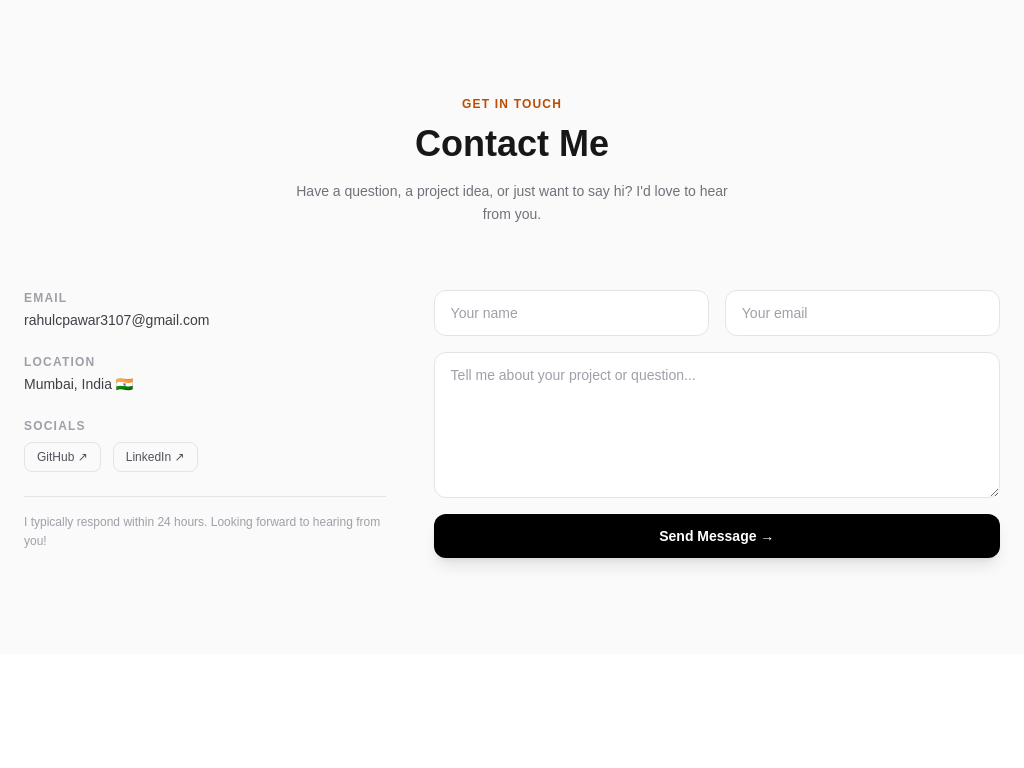
Contact › shows an error when the request throws
Type "Ada" into the field with placeholder "Your name" at [571, 312], box [434, 290, 709, 336]
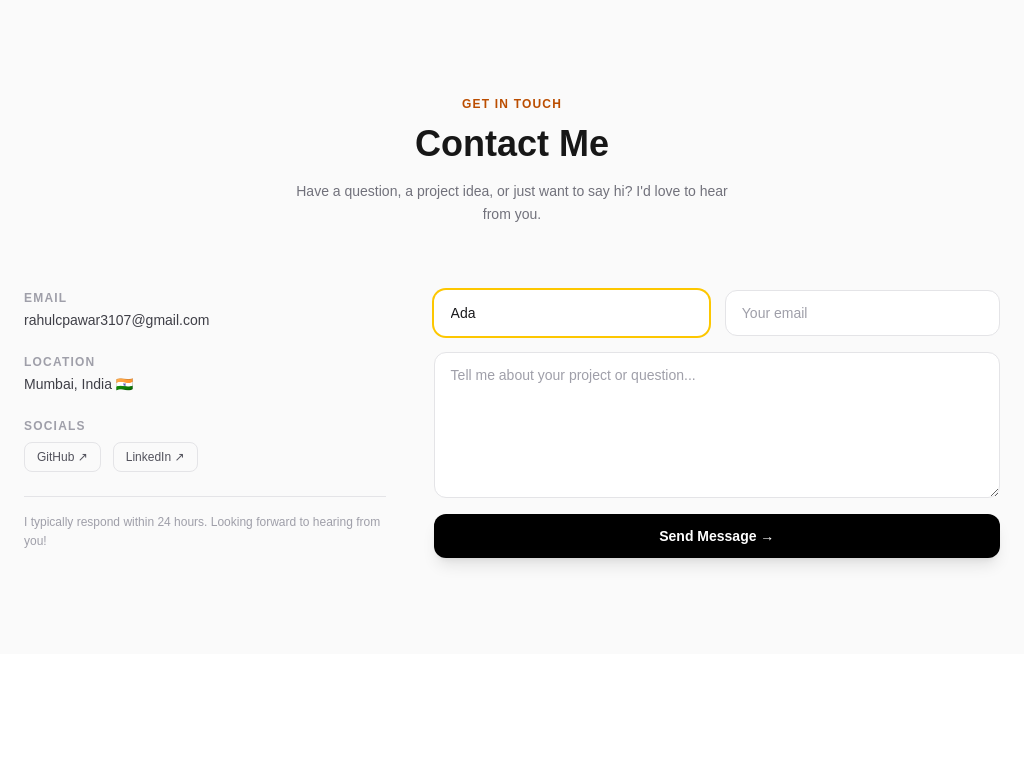
Type "ada@example.com" into the field with placeholder "Your email" at [862, 312], box [725, 290, 1000, 336]
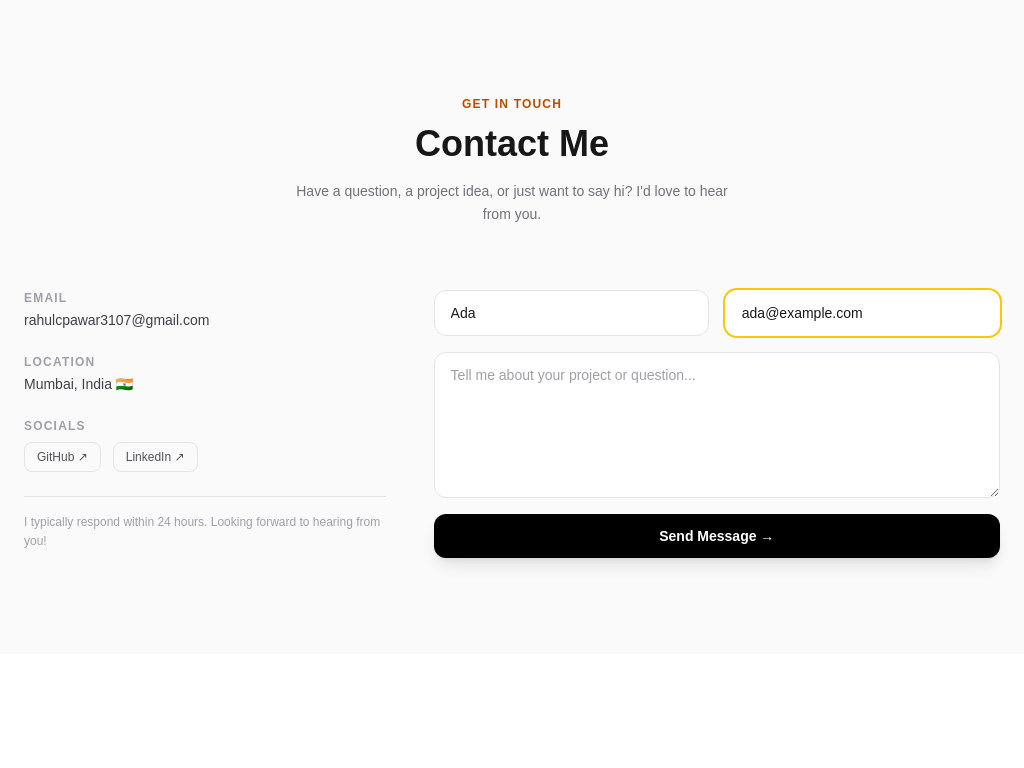
Type "Hello" into the text box with placeholder "Tell me about your project or question..." at [717, 424], box [434, 352, 1000, 498]
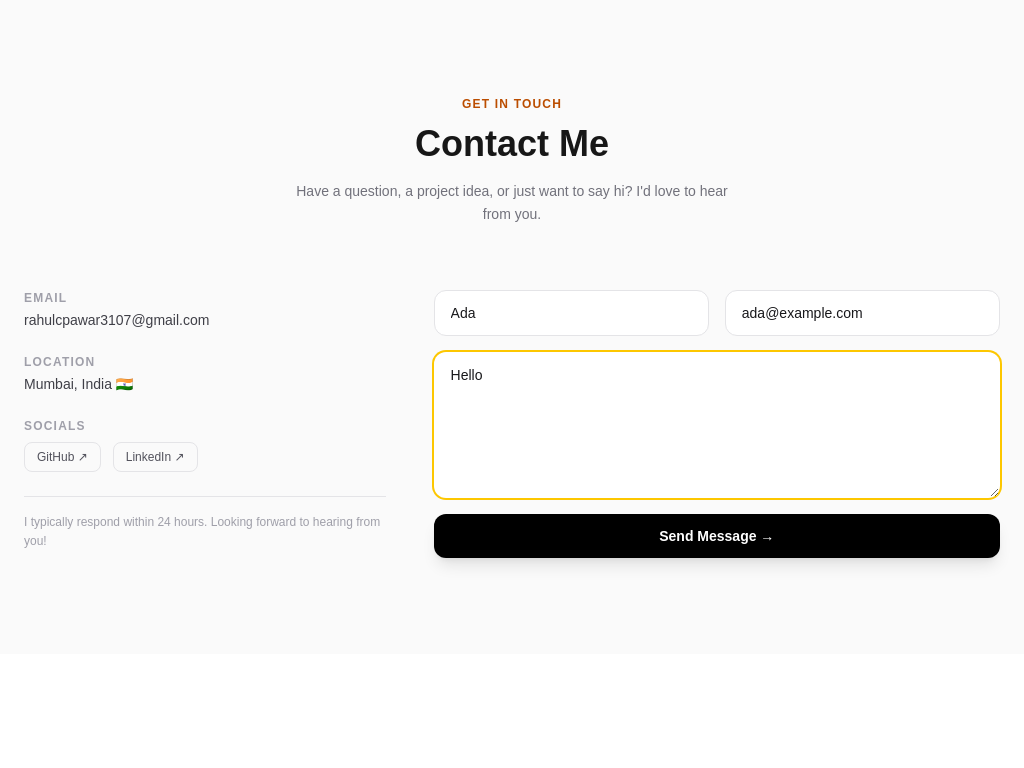
Click the button "Send Message →" at [717, 536], box [434, 514, 1000, 558]
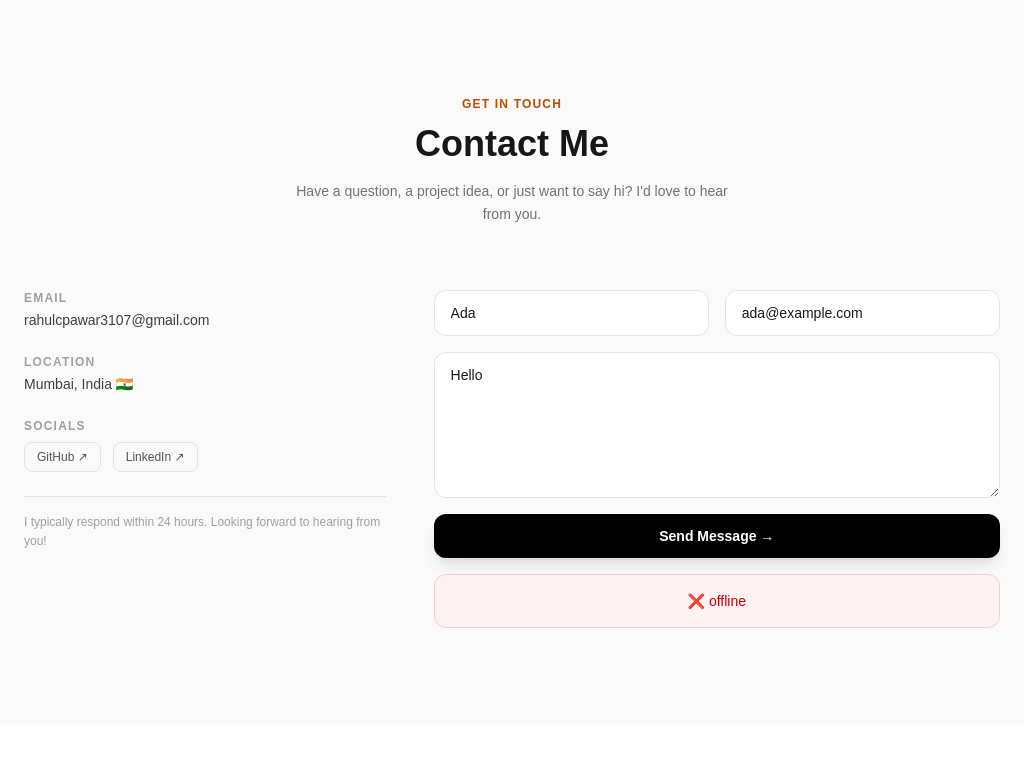
expect the text "❌ offline" is shown: met, box [434, 574, 1000, 628]
